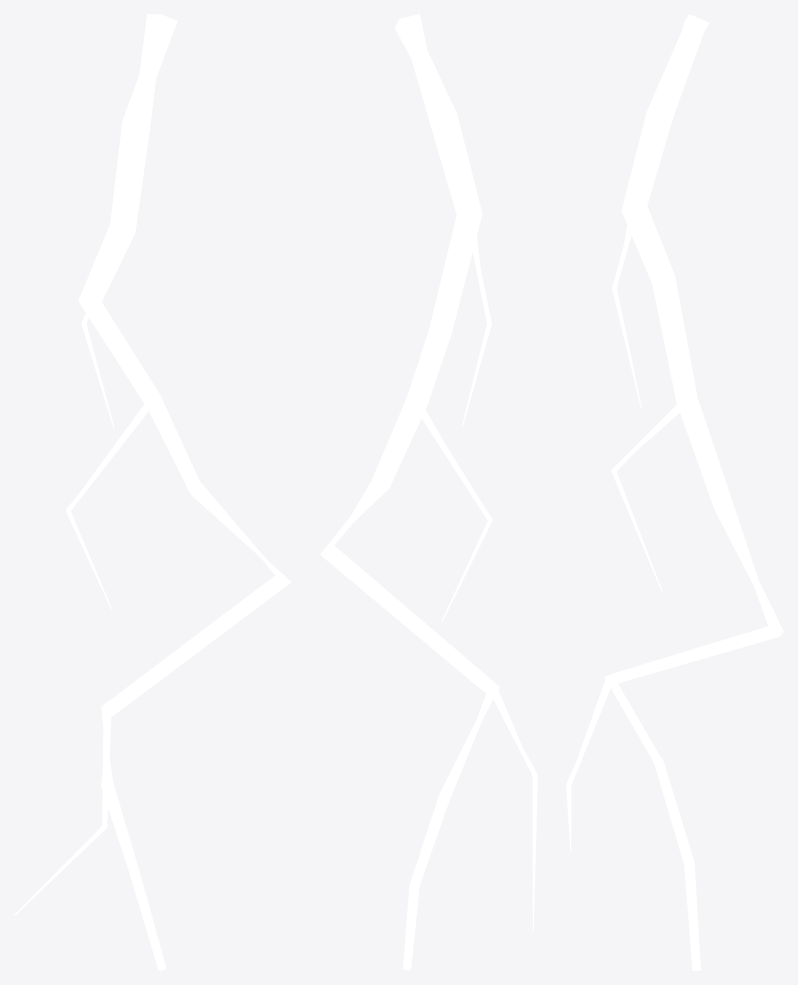
The model's file is SM_Env_LightningBolt_HQ.glb.
3 views of the same model, side by side, from view 1: azimuth 30°, elevation 25°; view 2: azimuth 150°, elevation 25°; view 3: azimuth 330°, elevation 25° (orthographic).
Parts seen in each view (by area): view 1: SM_Env_LightningBolt_HQ; view 2: SM_Env_LightningBolt_HQ; view 3: SM_Env_LightningBolt_HQ.
Boxes of the visible parts, x1,y1,x2,y2 form: SM_Env_LightningBolt_HQ: (14,14,291,970); SM_Env_LightningBolt_HQ: (320,14,537,970); SM_Env_LightningBolt_HQ: (566,14,783,970).
Size of the model in its own units: 16.11 by 60.28 by 6.94.
1 material, 1 textured.
